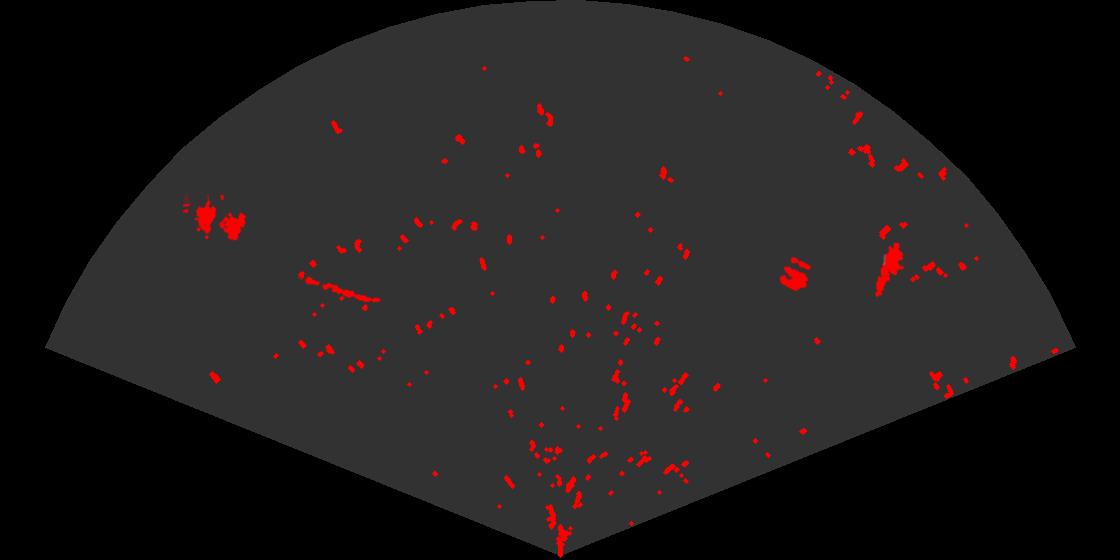ball: (778, 255, 813, 293)
cage: (183, 195, 248, 243)
chain: (299, 275, 383, 304)
frogman: (874, 243, 906, 297)
